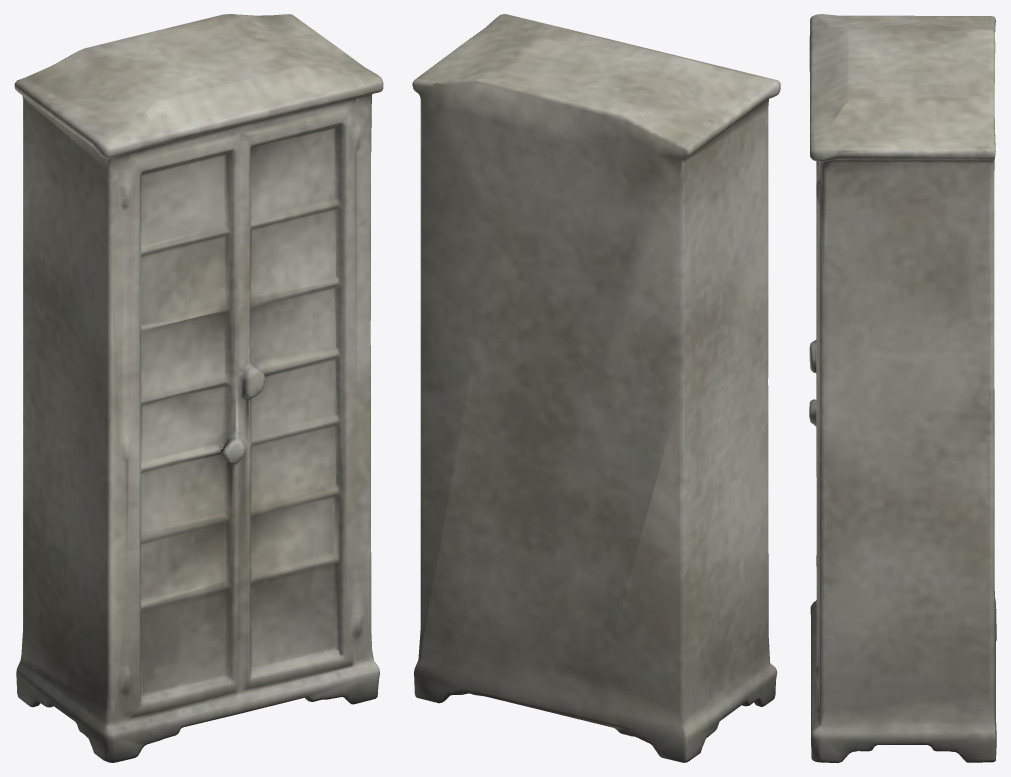
Rendered from worn-white-painted-medicine-cabinet-v002.glb.
3 renders of one model, left to right at view 1: azimuth 30°, elevation 25°; view 2: azimuth 150°, elevation 25°; view 3: azimuth 270°, elevation 25°, orthographic.
Parts seen in each view (by area): view 1: worn-white-painted-medicine-cabinet; view 2: worn-white-painted-medicine-cabinet; view 3: worn-white-painted-medicine-cabinet.
Boxes of the visible parts, x1,y1,x2,y2 form: worn-white-painted-medicine-cabinet: (14,14,383,762); worn-white-painted-medicine-cabinet: (412,14,780,762); worn-white-painted-medicine-cabinet: (809,14,996,762).
Size of the model in its own units: 0.7513 by 1.62 by 0.4358.
Materials: 1 (1 with a texture image).
